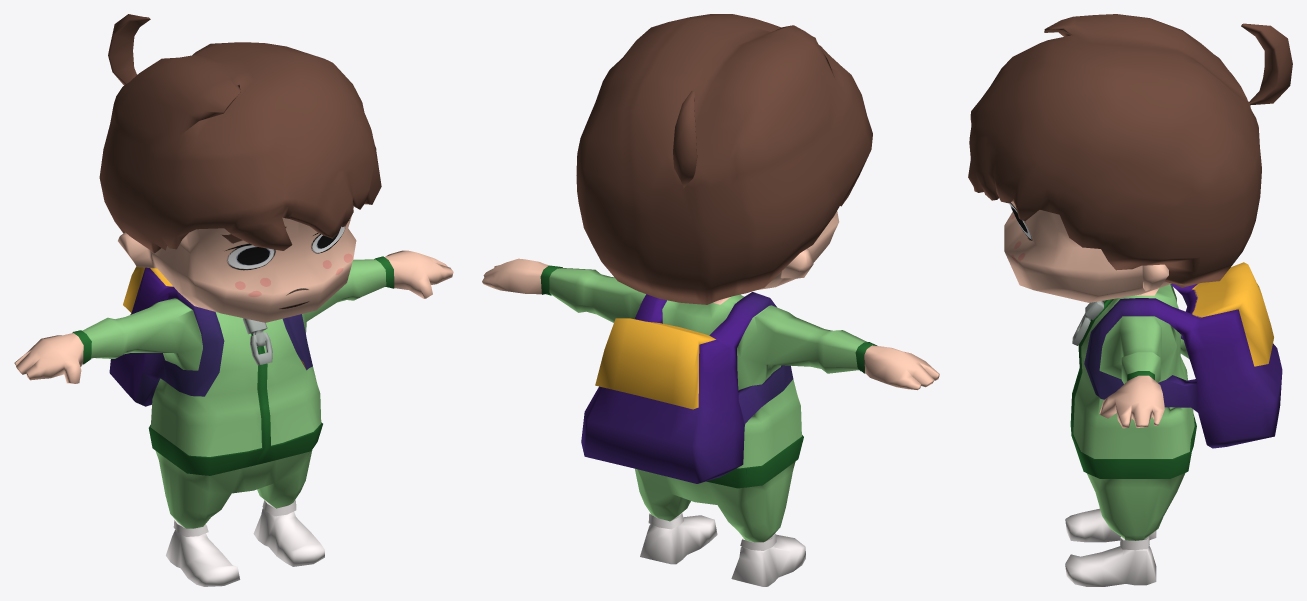
Rendered from Toon_Nimbi.fbx.
3 renders of one model, left to right at view 1: azimuth 30°, elevation 25°; view 2: azimuth 150°, elevation 25°; view 3: azimuth 270°, elevation 25°, orthographic. The views are drawn at different scales.
Parts seen in each view (by area): view 1: pCube8; view 2: pCube8; view 3: pCube8.
Boxes of the visible parts, left/top/right/bottom form: pCube8: left=14, top=14, right=453, bottom=586; pCube8: left=482, top=14, right=939, bottom=586; pCube8: left=968, top=14, right=1292, bottom=586.
Size of the model in its own units: 12.36 by 13.93 by 7.97.
Materials: 1 (1 with a texture image).
